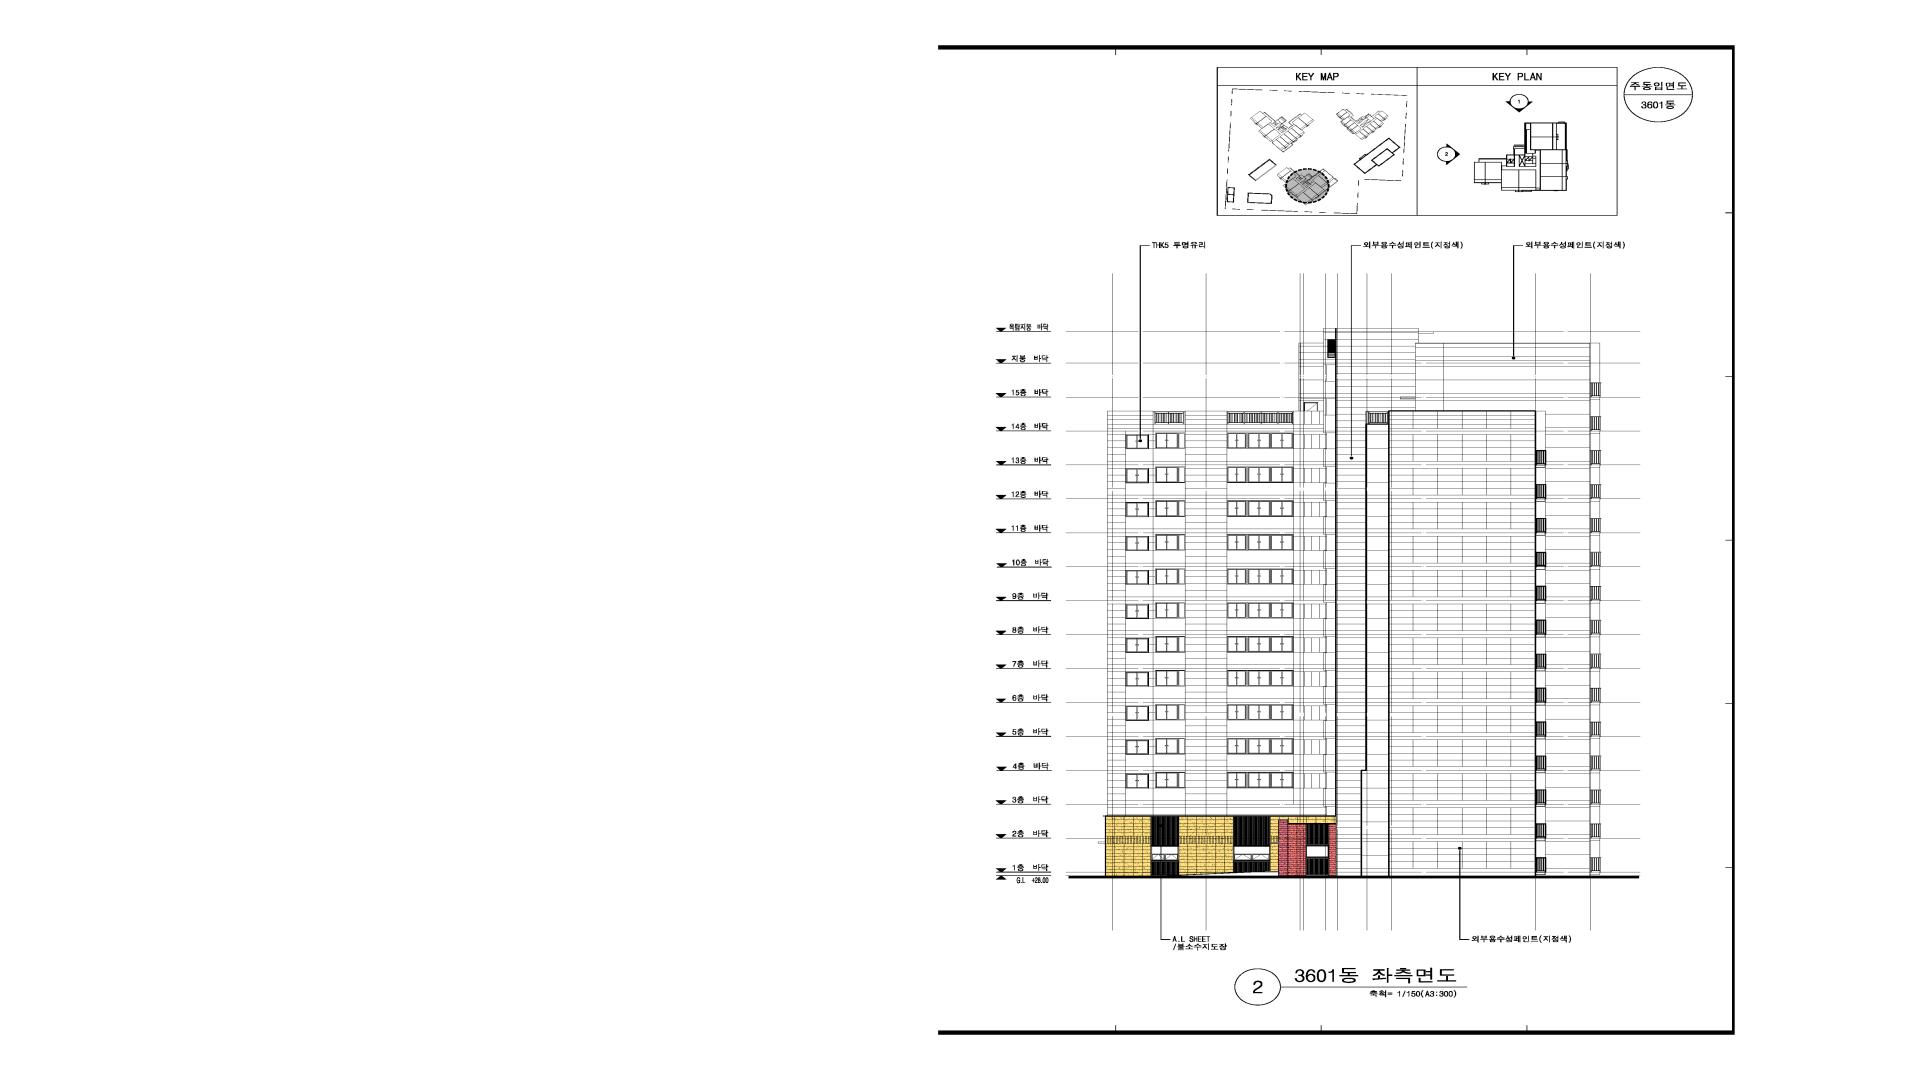door: (1303, 402, 1318, 411)
wall: (1098, 328, 1600, 876)
window: (1233, 846, 1271, 861), (1155, 466, 1185, 483), (1155, 568, 1185, 585), (1155, 500, 1185, 517), (1155, 670, 1186, 686), (1155, 535, 1186, 551), (1155, 738, 1185, 754), (1155, 704, 1185, 720), (1155, 433, 1185, 449), (1155, 636, 1185, 652), (1155, 772, 1185, 788), (1155, 602, 1185, 618), (1151, 846, 1179, 861), (1125, 739, 1149, 755), (1271, 467, 1294, 483), (1271, 568, 1294, 584), (1270, 636, 1293, 652), (1270, 704, 1293, 720), (1271, 772, 1294, 788), (1248, 670, 1271, 686), (1247, 636, 1270, 652), (1126, 671, 1149, 687), (1248, 704, 1271, 720), (1125, 434, 1149, 449), (1125, 468, 1149, 483), (1125, 502, 1149, 517), (1125, 706, 1149, 721), (1125, 570, 1149, 585), (1125, 604, 1149, 619), (1125, 638, 1149, 653), (1125, 773, 1149, 788), (1248, 772, 1270, 788), (1248, 602, 1270, 618), (1248, 569, 1270, 585), (1271, 433, 1293, 449), (1271, 500, 1293, 516), (1271, 534, 1293, 550), (1271, 602, 1293, 618), (1271, 670, 1293, 686), (1271, 738, 1293, 754), (1248, 467, 1270, 483), (1248, 433, 1270, 449), (1248, 738, 1270, 754), (1248, 535, 1270, 551), (1248, 501, 1270, 517), (1126, 536, 1149, 551), (1227, 772, 1247, 788), (1227, 467, 1247, 483), (1227, 636, 1247, 652), (1227, 433, 1246, 449), (1227, 569, 1246, 585), (1227, 602, 1246, 618), (1227, 704, 1246, 720), (1227, 738, 1246, 754), (1227, 535, 1247, 550), (1227, 671, 1247, 686), (1306, 845, 1329, 858), (1227, 501, 1246, 516)
